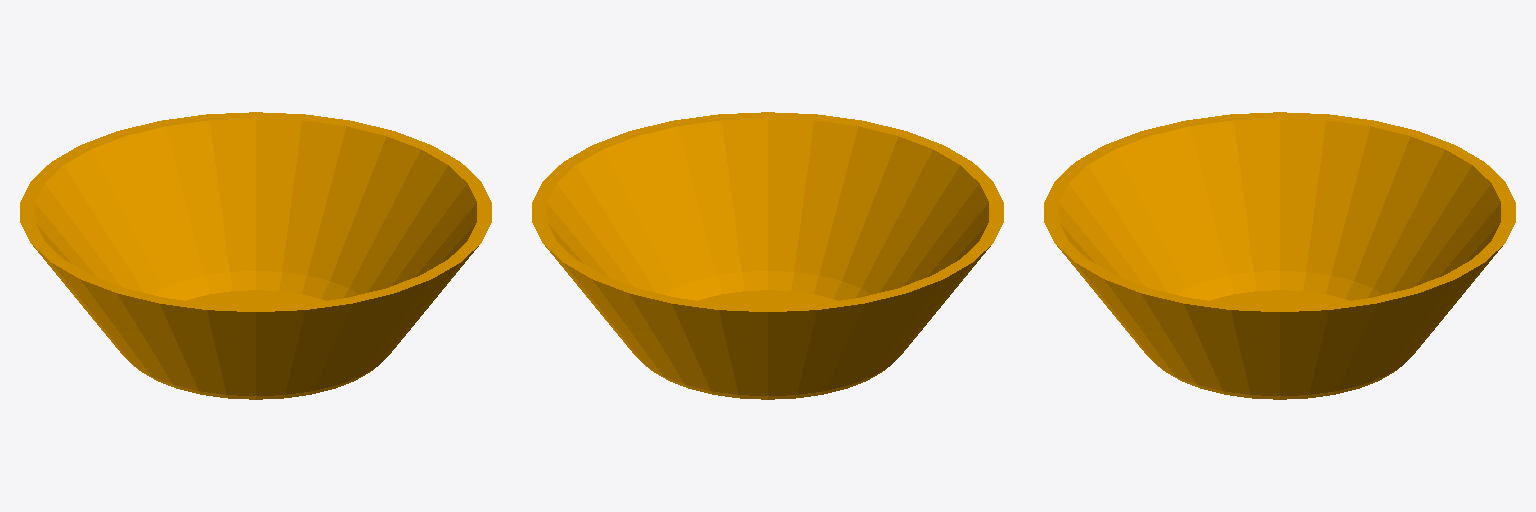
robot.urdf — bullet_plate:
<robot name="bullet_plate">
  <link name="base">
    <visual><geometry><mesh filename="bullet_plate.normalized.obj"/></geometry></visual>
    <collision><geometry><mesh filename="bullet_plate.collision_box.obj"/></geometry></collision>
  </link>
</robot>

--- What the picture shows (computed from the rendered views, not written in the file) ---
The picture shows the robot from 3 angles, left to right: view 1: azimuth 30°, elevation 25°; view 2: azimuth 150°, elevation 25°; view 3: azimuth 270°, elevation 25°; orthographic projection.
Model bullet_plate with 1 links and 0 joints (none), rooted at base, posed all joints at 0.
Visible links, largest first — view 1: base; view 2: base; view 3: base.
Link boxes in pixels (bbox=[...]): base: bbox=[20, 112, 491, 399]; base: bbox=[532, 112, 1003, 399]; base: bbox=[1044, 112, 1515, 399].
Bounding box of the posed robot: 1 × 0.9945 × 0.3061 m (x, y, z).
Meshes: 1 distinct files referenced, 1 mesh visuals loaded (1 OBJ).
